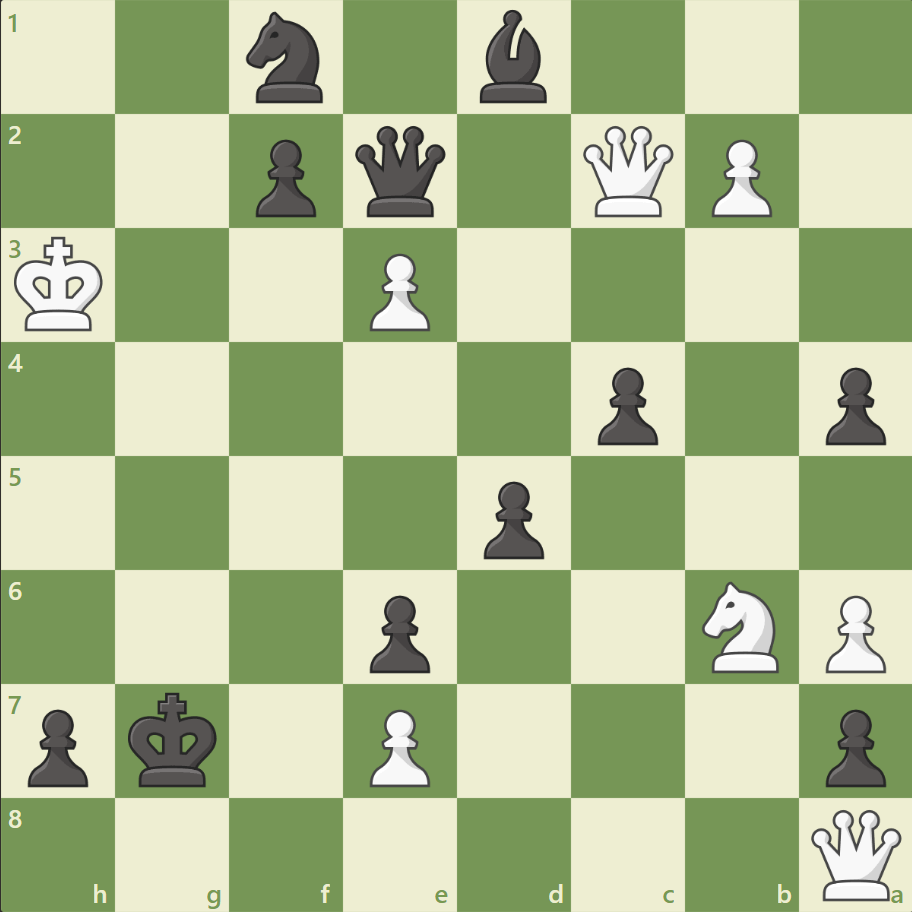K: (11, 231, 111, 339)
N: (692, 575, 789, 677)
P: (701, 132, 776, 223), (361, 700, 435, 791), (815, 586, 889, 677), (361, 246, 435, 337)
Q: (578, 122, 677, 222), (805, 804, 904, 903)
b: (471, 6, 555, 109)
k: (124, 685, 224, 793)
n: (238, 7, 335, 110)
p: (20, 700, 95, 791), (474, 473, 549, 564), (247, 132, 322, 223), (815, 700, 889, 791), (361, 586, 435, 677), (815, 359, 889, 450), (588, 359, 662, 450)
q: (351, 122, 450, 222)
